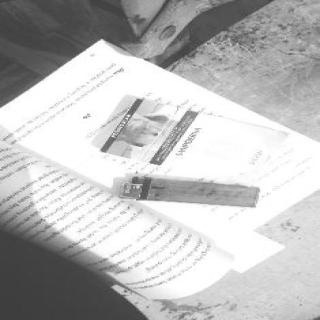objects: (99, 98, 290, 186)
